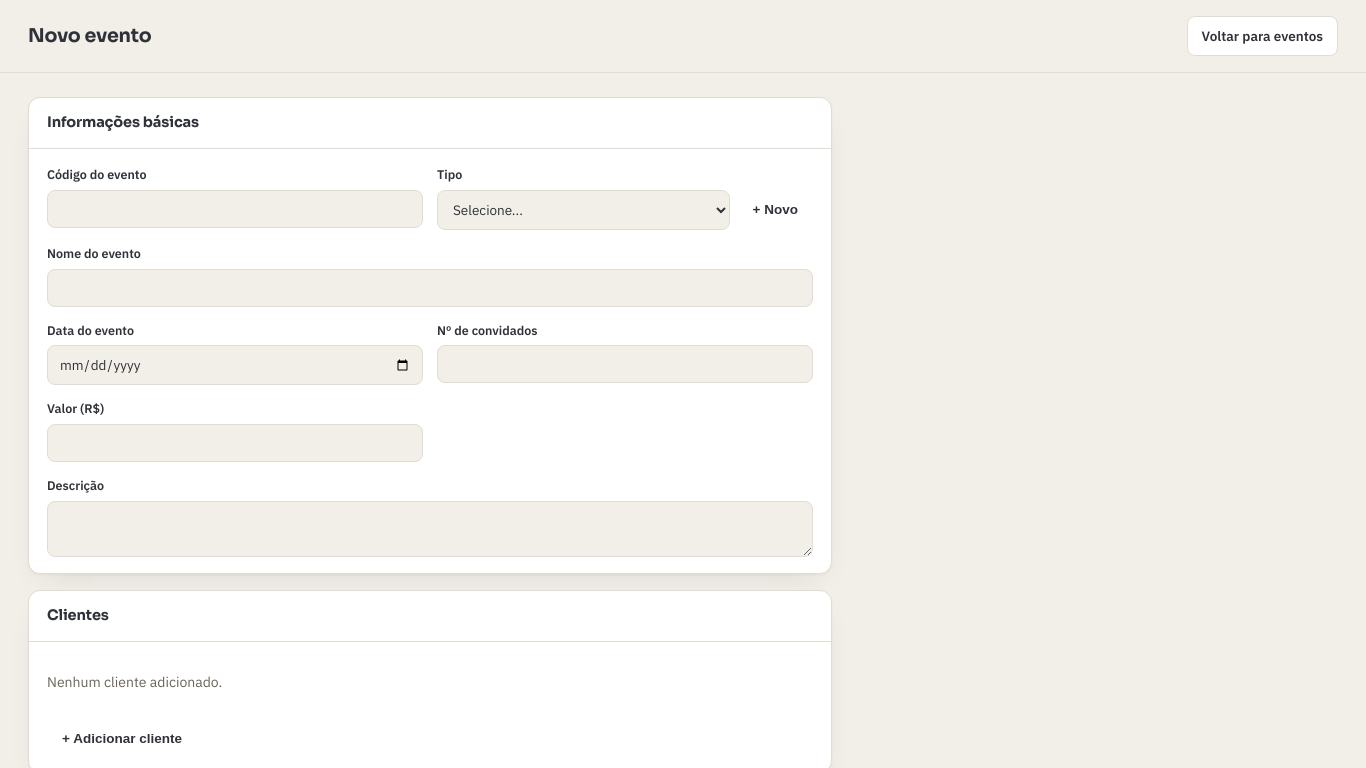
Scenario: EventFormPage › permite cadastrar um tipo de evento inline pelo botão "+ Novo" e seleciona o tipo criado
Expected: the dropdown labelled "Tipo" is shown, [437,190,730,230]
Click the button "+ Novo": (775, 210) [738,192,813,227]
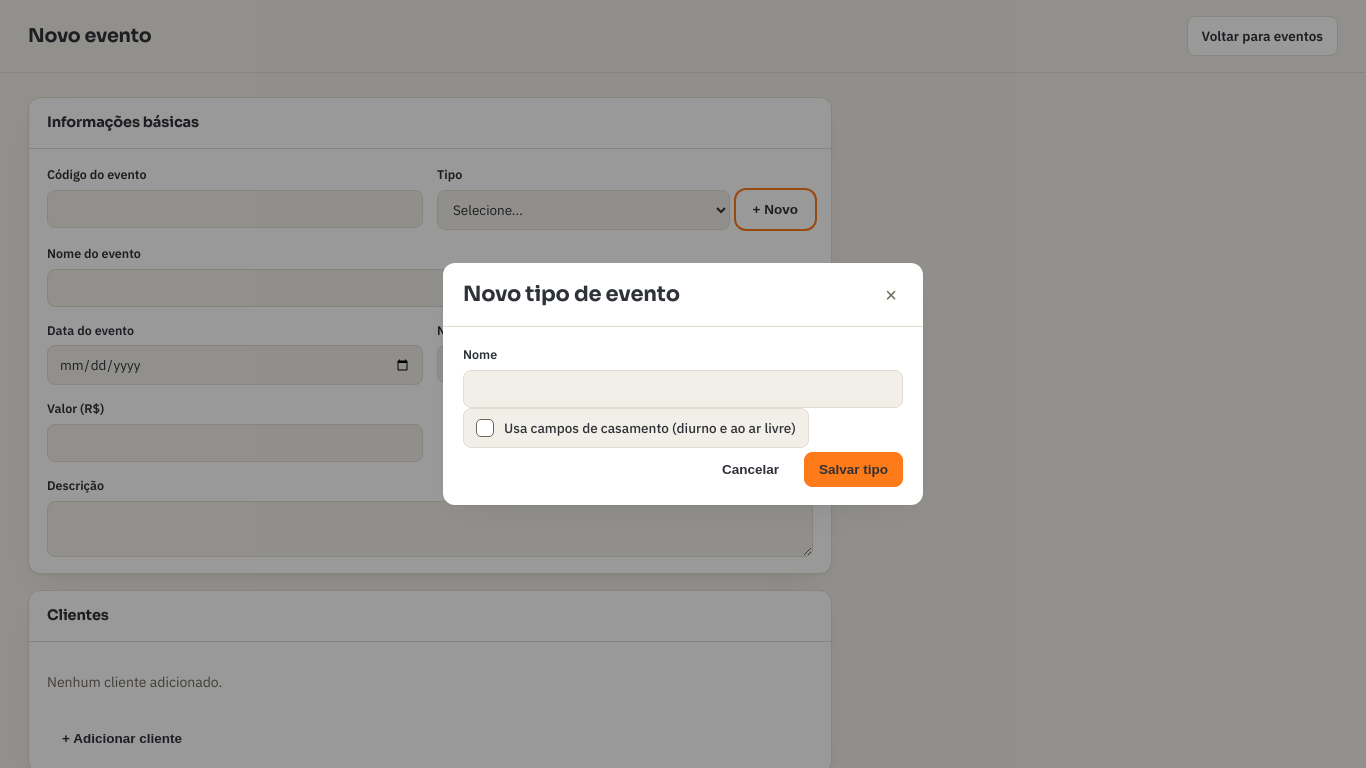
In the field labelled "Nome": (683, 389) [463,370,903,408], type "FORMATURA"
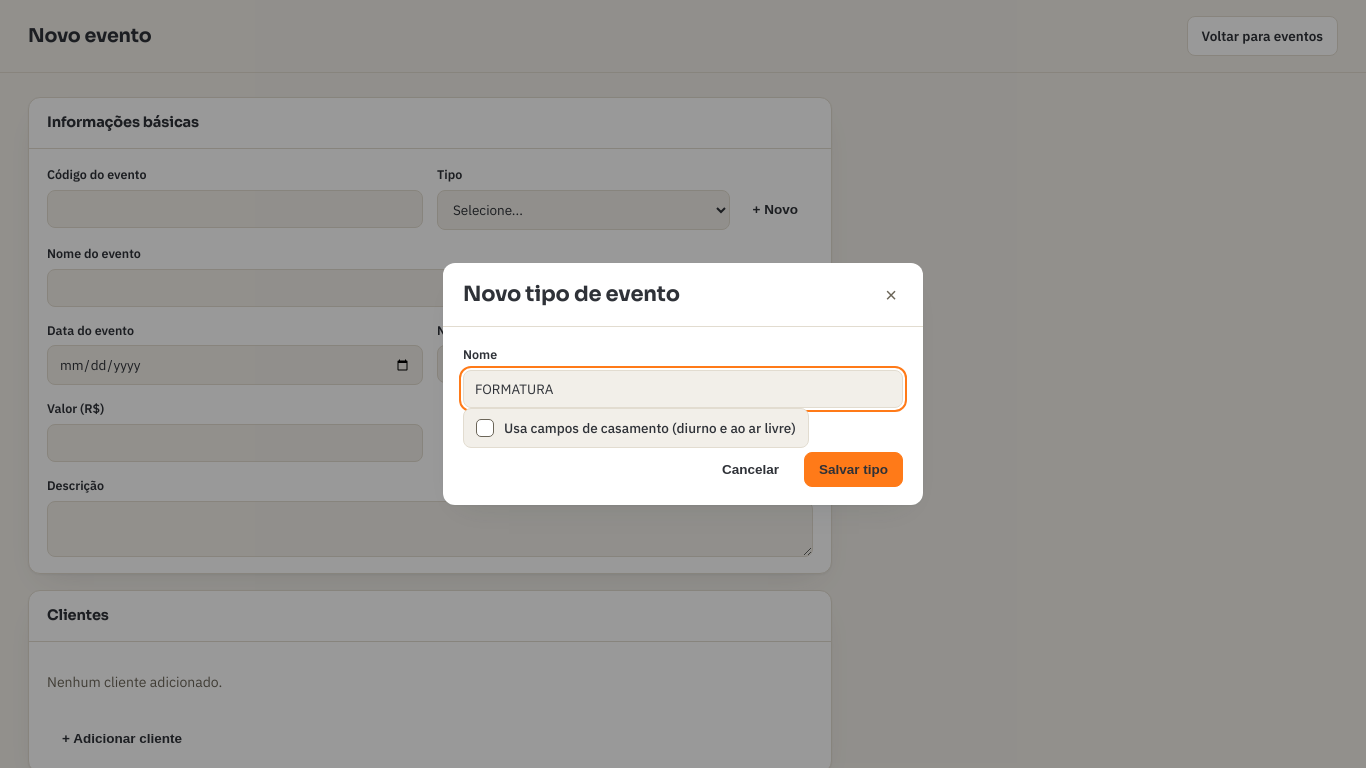
Click the button "Salvar tipo": (854, 470) [804,452,903,487]
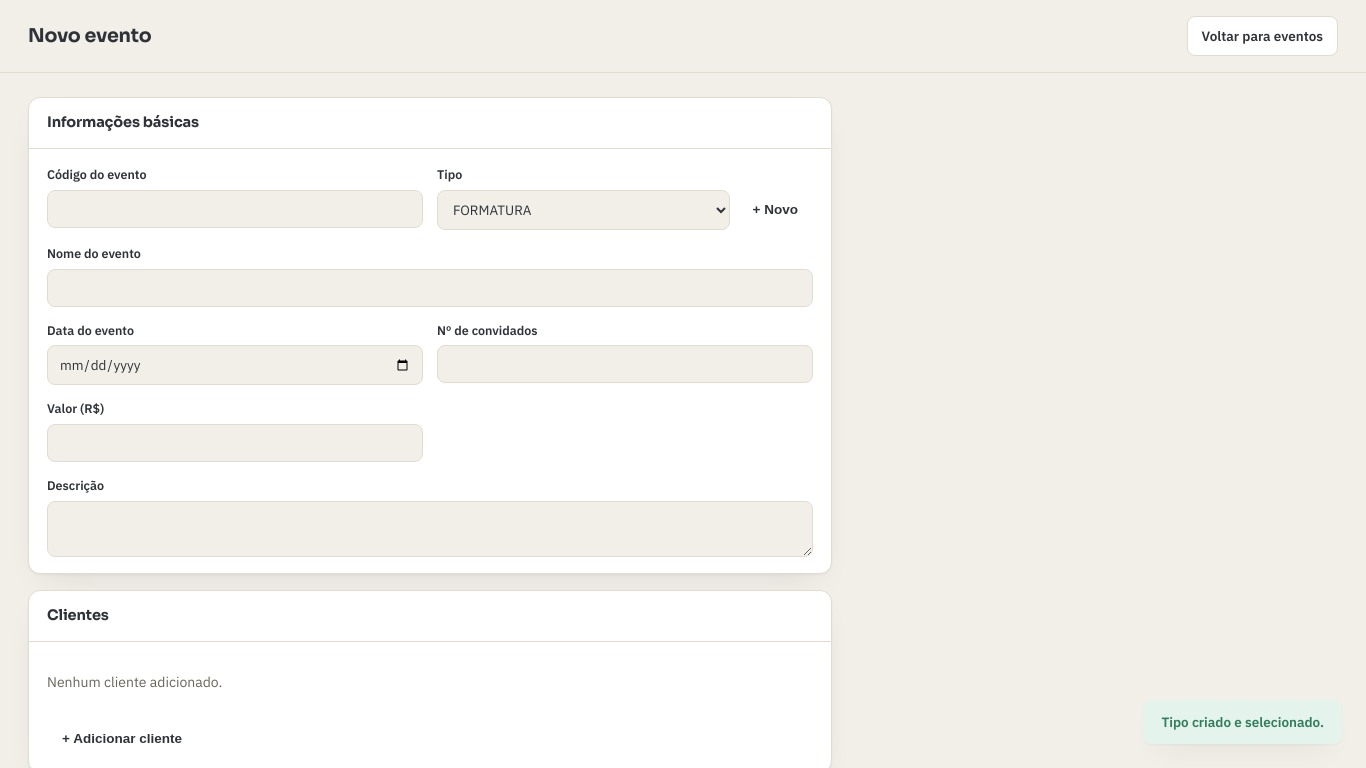
Expected: the heading "Novo tipo de evento" is gone
Expected: the dropdown labelled "Tipo" shows "FORMATURA", [437,190,730,230]
Expected: the text "Tipo criado e selecionado." is shown, [1144,700,1342,744]
